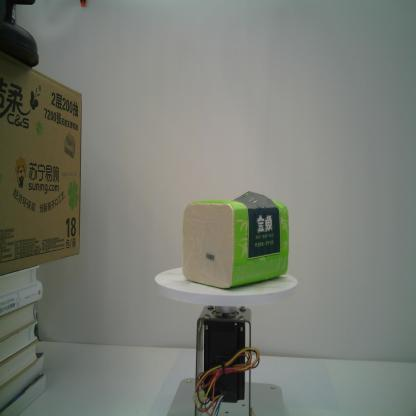Tissue: (182, 190, 290, 288)
